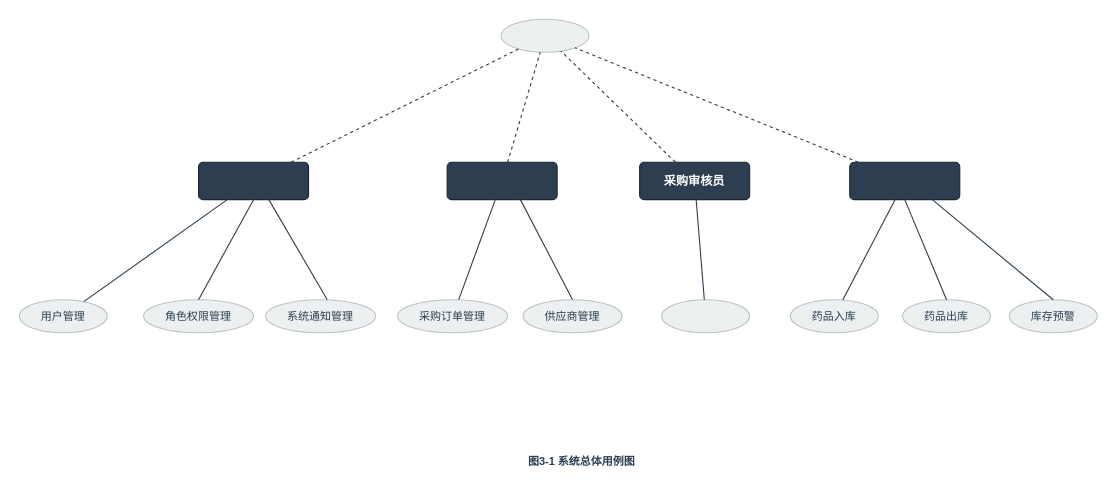
This 1117x490 diagram has some shape labels left out. Here are the shapes that lost their labels. From the top down, the centre of each, then its label:
the point at 544,35: 用户登录
the point at 253,180: 管理员
the point at 501,180: 采购员
the point at 904,180: 库管员
the point at 705,316: 采购审核
